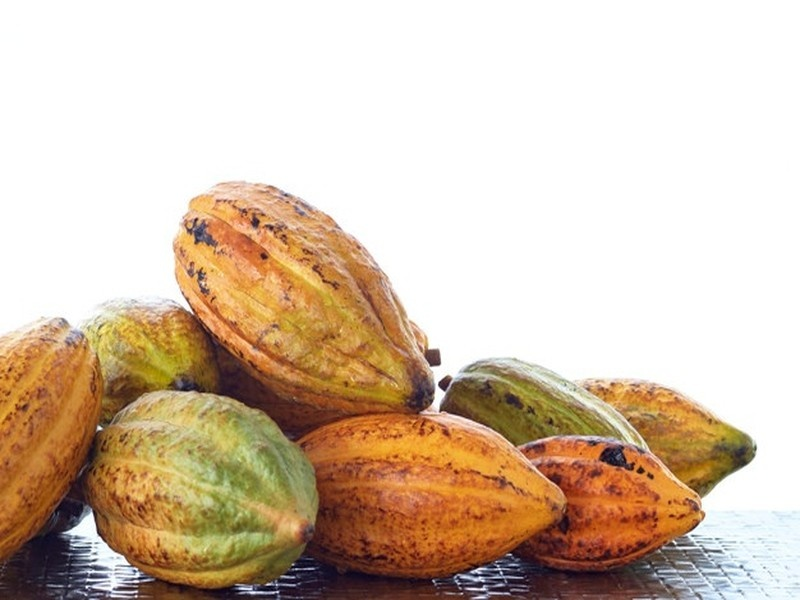Cacaopod: (148, 161, 448, 415), (471, 338, 718, 565), (308, 395, 578, 598), (101, 381, 320, 600)
